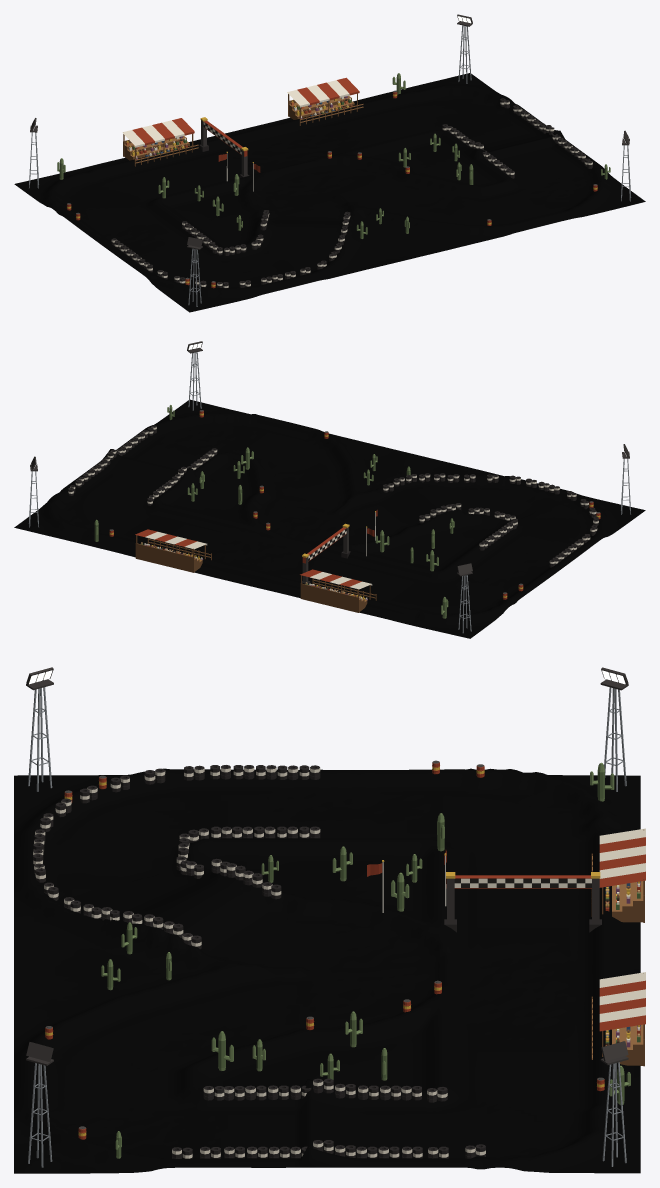
The model's file is track_2.glb.
The picture shows the model from 3 angles, top to bottom: view 1: azimuth 30°, elevation 25°; view 2: azimuth 150°, elevation 25°; view 3: azimuth 270°, elevation 25°; orthographic projection. The views are drawn at different scales.
Visible parts, largest first — view 1: track_2_ground, t2_grandstand_1, t2_grandstand_2, t2_start_arch_0, t2_floodlight_5, t2_floodlight_4; view 2: track_2_ground, t2_grandstand_2, t2_grandstand_1, t2_start_arch_0, t2_floodlight_3, t2_floodlight_6; view 3: track_2_ground, t2_grandstand_1, t2_grandstand_2, t2_start_arch_0, t2_floodlight_4, t2_floodlight_6, t2_floodlight_5, t2_floodlight_3.
Boxes of the visible parts, left/top/right/bottom form: track_2_ground: left=14, top=73, right=645, bottom=312; t2_grandstand_1: left=122, top=118, right=194, bottom=160; t2_grandstand_2: left=287, top=77, right=359, bottom=119; t2_start_arch_0: left=199, top=117, right=249, bottom=177; t2_floodlight_5: left=187, top=237, right=202, bottom=306; t2_floodlight_4: left=457, top=14, right=472, bottom=83; track_2_ground: left=14, top=399, right=645, bottom=638; t2_grandstand_2: left=135, top=529, right=207, bottom=572; t2_grandstand_1: left=300, top=569, right=372, bottom=612; t2_start_arch_0: left=302, top=523, right=350, bottom=584; t2_floodlight_3: left=457, top=563, right=472, bottom=633; t2_floodlight_6: left=187, top=341, right=202, bottom=410; track_2_ground: left=14, top=768, right=640, bottom=1173; t2_grandstand_1: left=599, top=828, right=645, bottom=922; t2_grandstand_2: left=599, top=972, right=645, bottom=1066; t2_start_arch_0: left=444, top=872, right=601, bottom=932; t2_floodlight_4: left=600, top=1041, right=628, bottom=1166; t2_floodlight_6: left=26, top=1042, right=53, bottom=1167; t2_floodlight_5: left=26, top=667, right=53, bottom=791; t2_floodlight_3: left=600, top=667, right=628, bottom=791.
Bounding box in the file's own units: 72 × 10.17 × 48.4.
Materials: 32 (1 with a texture image).
